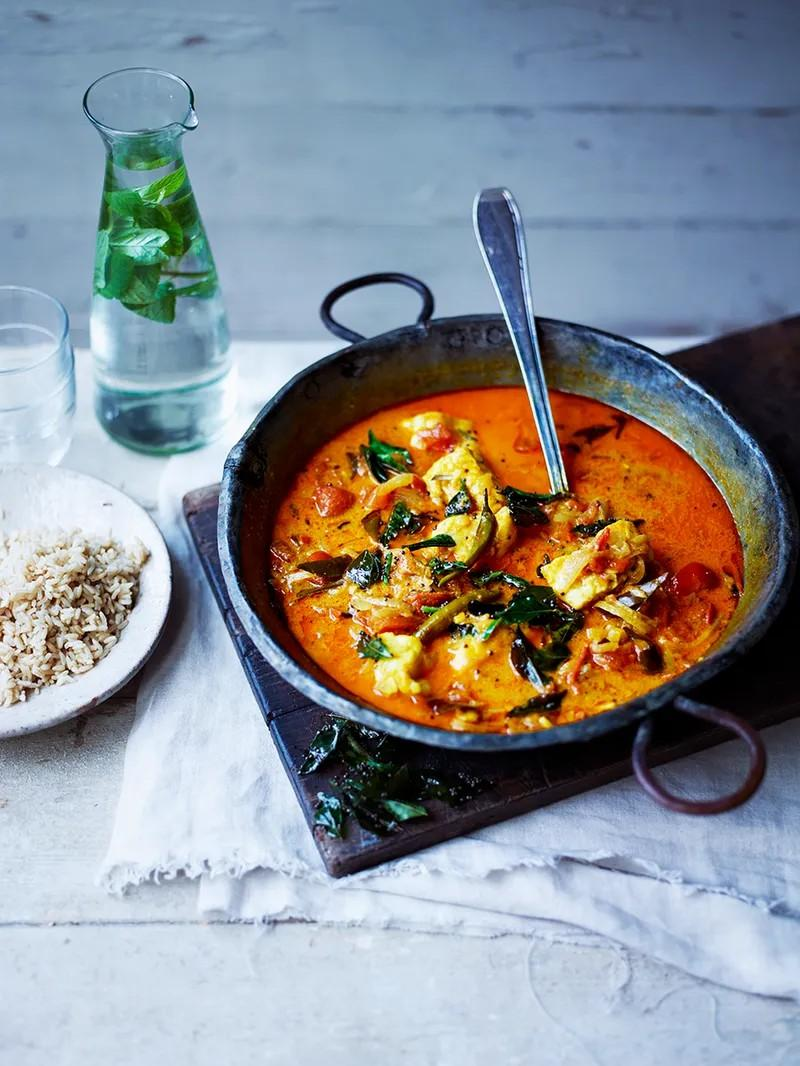FishCurry: (278, 385, 738, 721)
